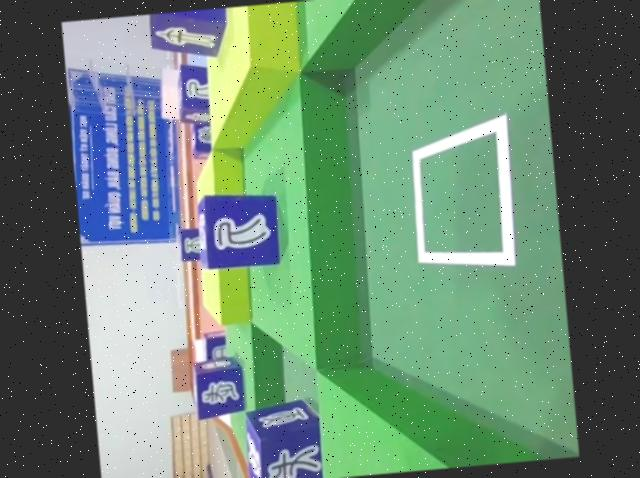R2 Fake Blue: (195, 188, 283, 271), (238, 397, 325, 478), (148, 7, 236, 60), (190, 353, 248, 418), (174, 62, 211, 124)
